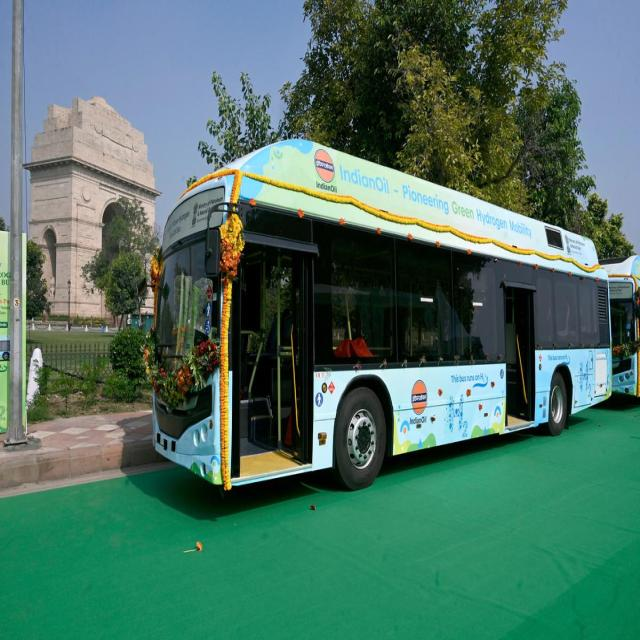bus: (150, 139, 610, 491)
